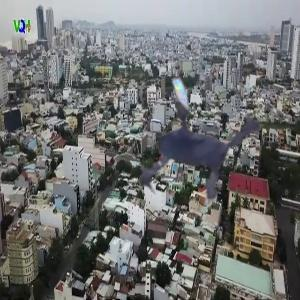drone: (89, 16, 299, 226)
